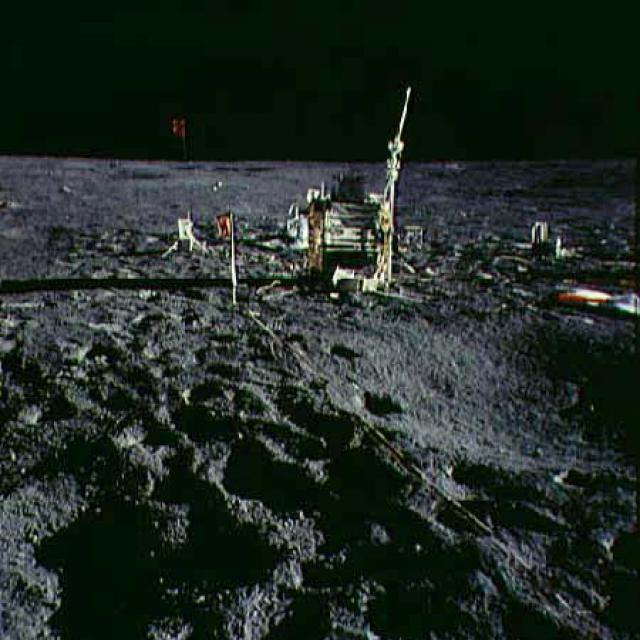crater: (270, 294, 639, 506)
